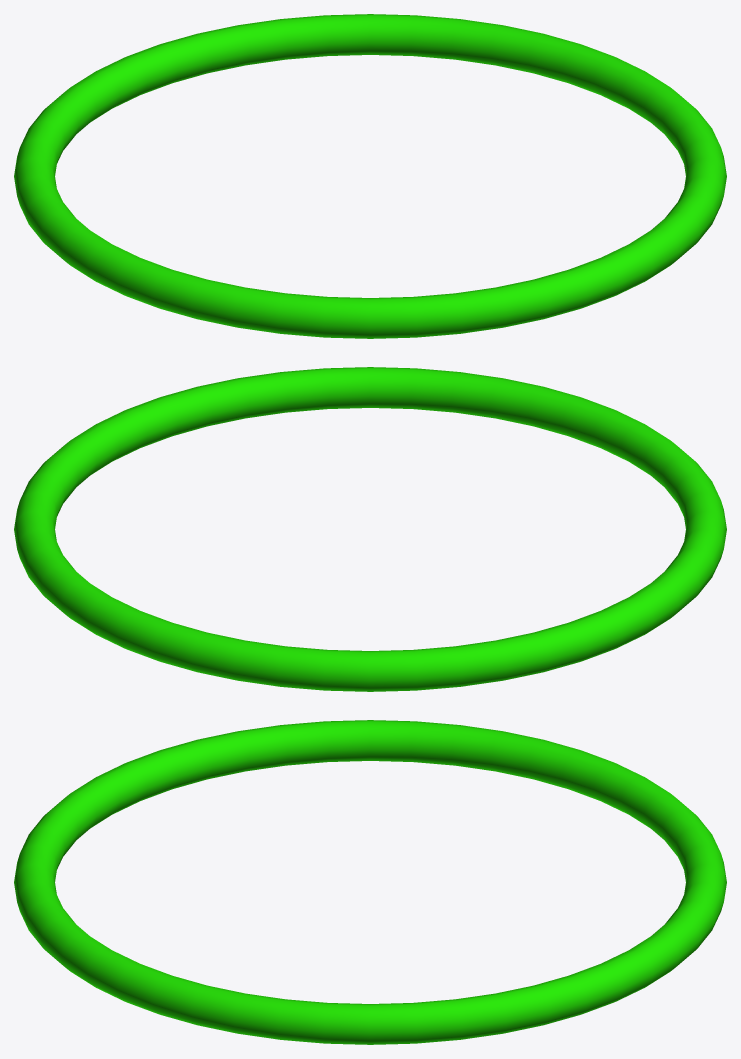
3 renders of one model, top to bottom at view 1: azimuth 30°, elevation 25°; view 2: azimuth 150°, elevation 25°; view 3: azimuth 270°, elevation 25°, orthographic.
Visible parts, largest first — view 1: Torus; view 2: Torus; view 3: Torus.
Part boxes in pixels (x1,y1,x2,y2): Torus: [14, 14, 726, 338]; Torus: [14, 367, 726, 691]; Torus: [14, 720, 726, 1044].
Bounding box in the file's own units: 4.52 × 0.26 × 4.52.
